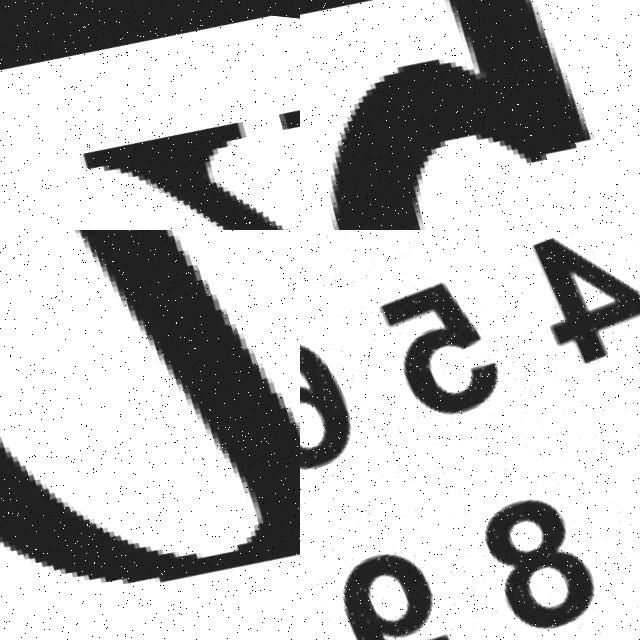4: (504, 230, 640, 373)
5: (300, 0, 640, 230), (363, 250, 520, 431)
6: (300, 303, 378, 491)
8: (461, 459, 615, 640)
9: (319, 518, 473, 640)
D: (0, 230, 300, 640)
K: (0, 9, 300, 230)
